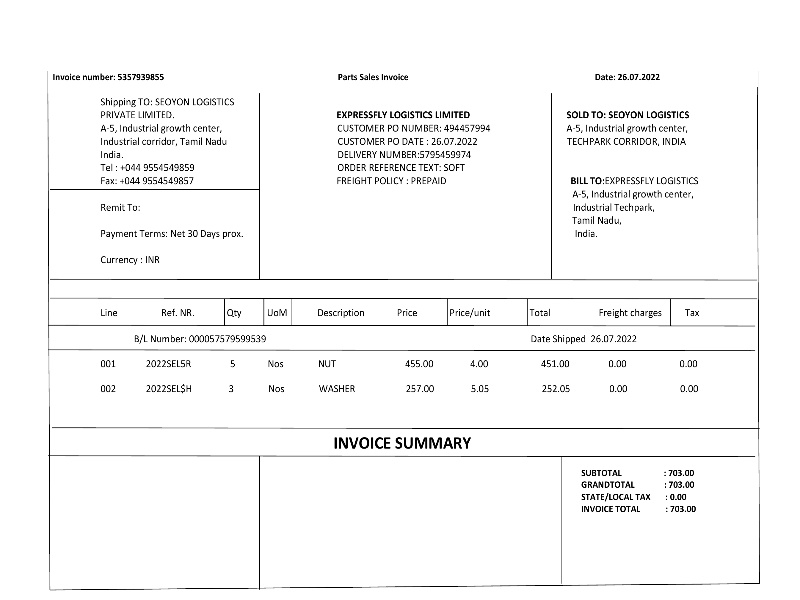Bordered: (47, 299, 761, 430)
